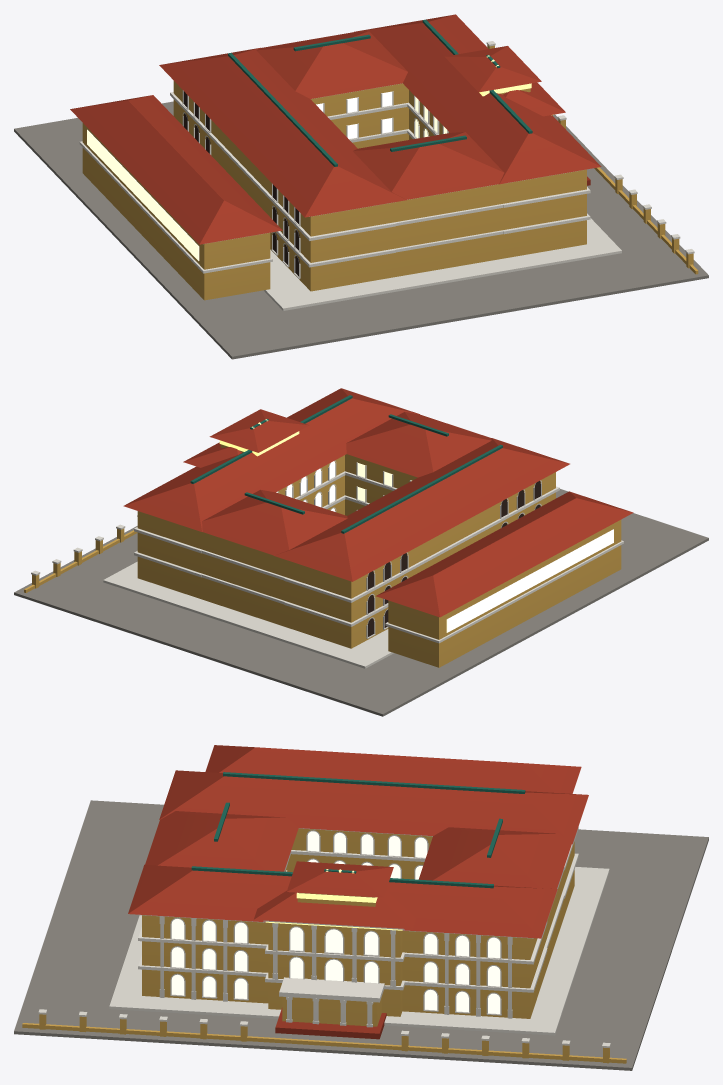
Rendered from bao_tang_my_thuat.glb.
3 views of the same model, one above another, from view 1: azimuth 30°, elevation 25°; view 2: azimuth 150°, elevation 25°; view 3: azimuth 270°, elevation 25° (orthographic). The views are drawn at different scales.
Visible parts, largest first — view 1: bao_tang_my_thuat; view 2: bao_tang_my_thuat; view 3: bao_tang_my_thuat.
Part boxes in pixels (x1,y1,x2,y2): bao_tang_my_thuat: [14, 14, 708, 359]; bao_tang_my_thuat: [14, 388, 708, 716]; bao_tang_my_thuat: [14, 745, 708, 1070].
Bounding box in the file's own units: 87.23 × 20 × 95.74.
